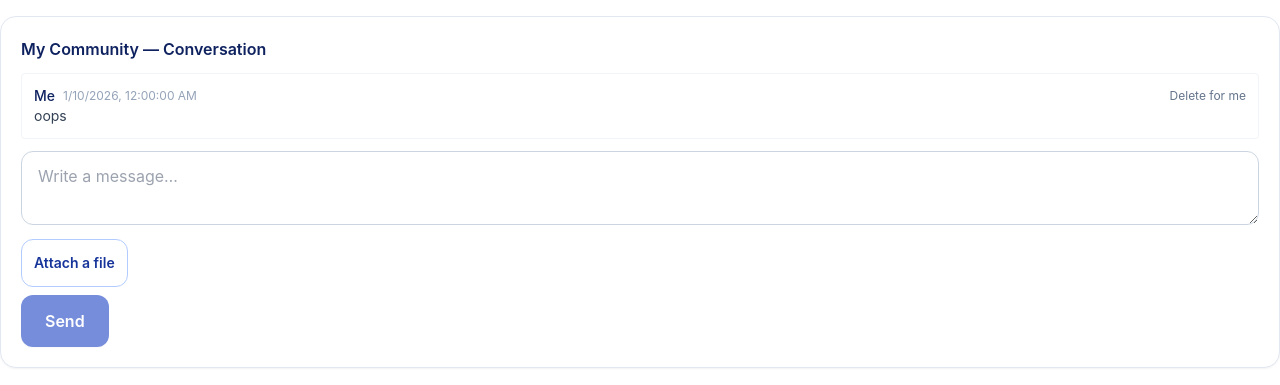
it: CommunityConversation — Phase 3M.8C delete for me › hiding a message removes it from view and posts to the hide endpoint
The image size is (1280, 385).
Click the button "Delete for me".
click(1208, 96)  # box [1170,88,1246,104]
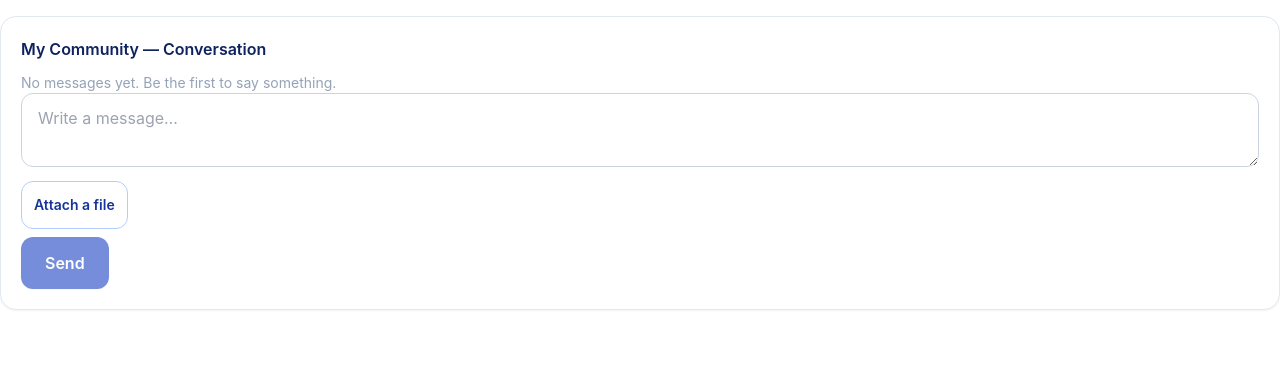
Check: the text "oops" is gone
